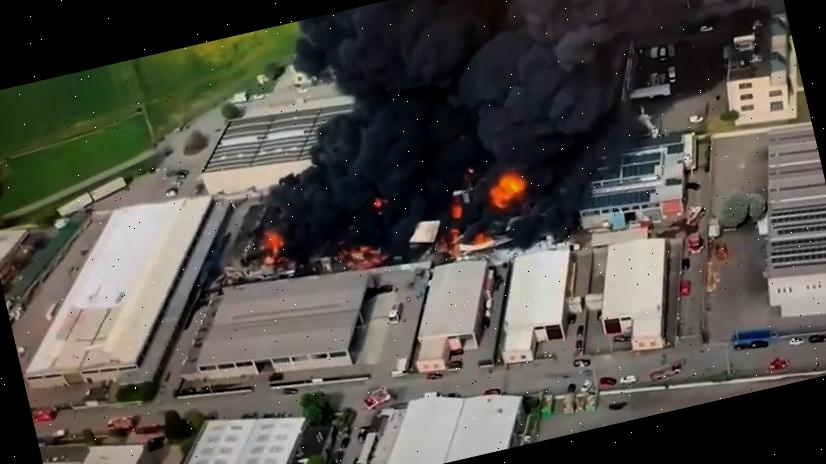fire: (441, 159, 549, 239), (241, 222, 291, 282)
smoke: (265, 0, 801, 192), (346, 171, 443, 239)
